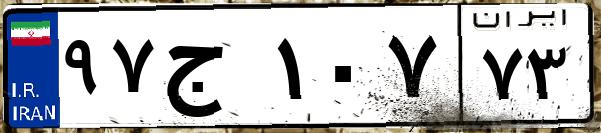0: (330, 28, 385, 110)
1: (270, 28, 330, 110)
3: (525, 38, 570, 115)
7: (385, 28, 445, 110), (475, 38, 525, 113), (110, 28, 158, 98)
9: (57, 26, 110, 100)
ج: (158, 20, 270, 120)
